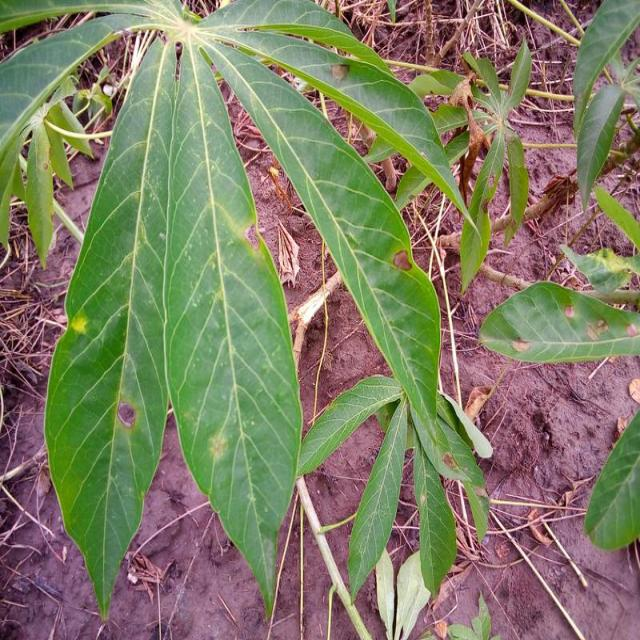cassava leaf: (8, 1, 493, 623), (163, 33, 303, 621), (42, 33, 177, 621)
